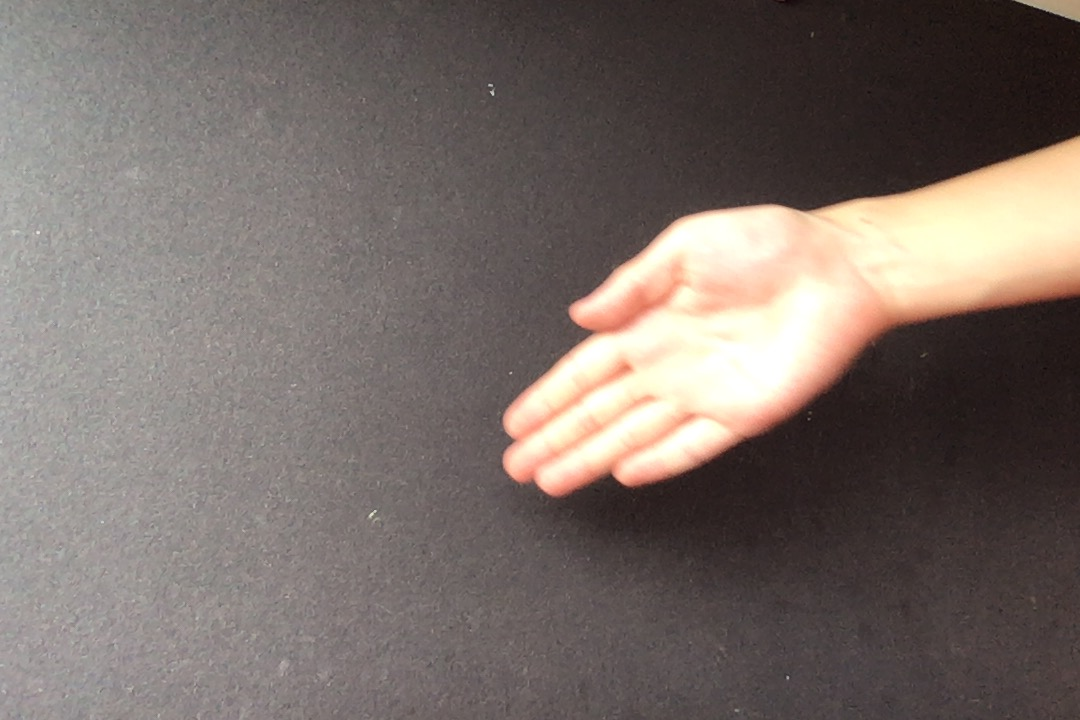palmhand: (498, 199, 892, 508)
